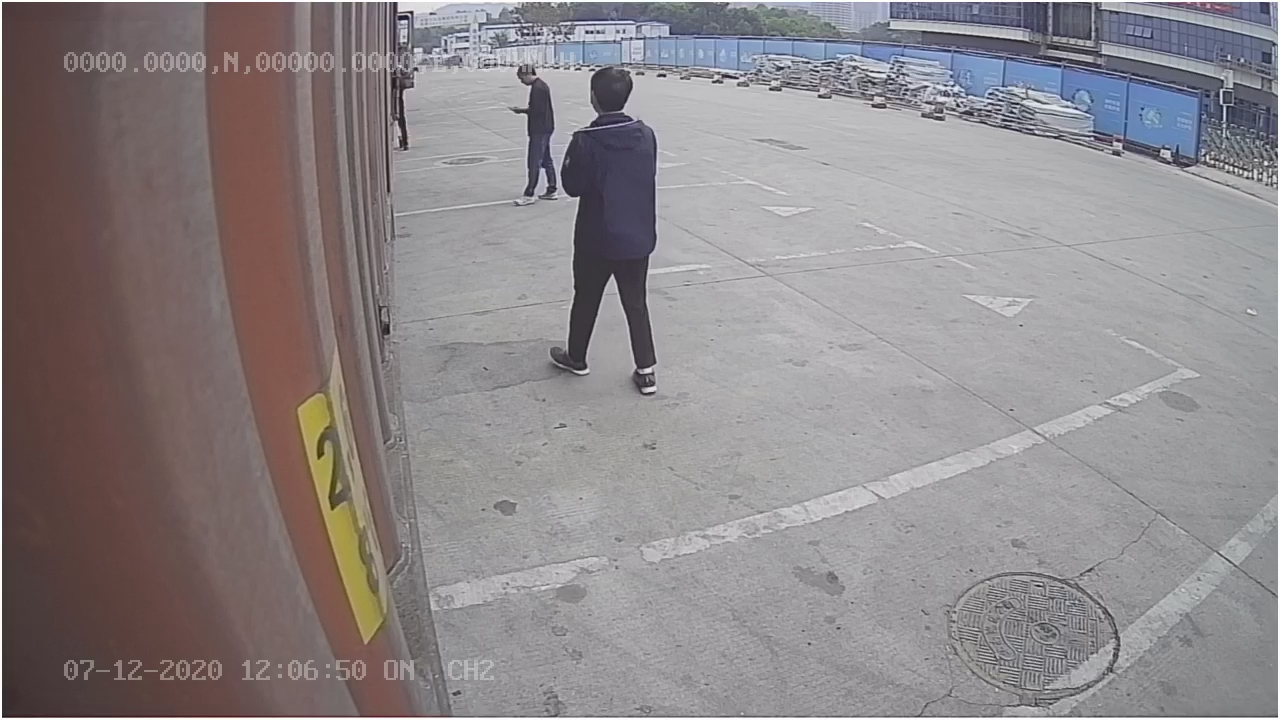person: (551, 64, 664, 386)
